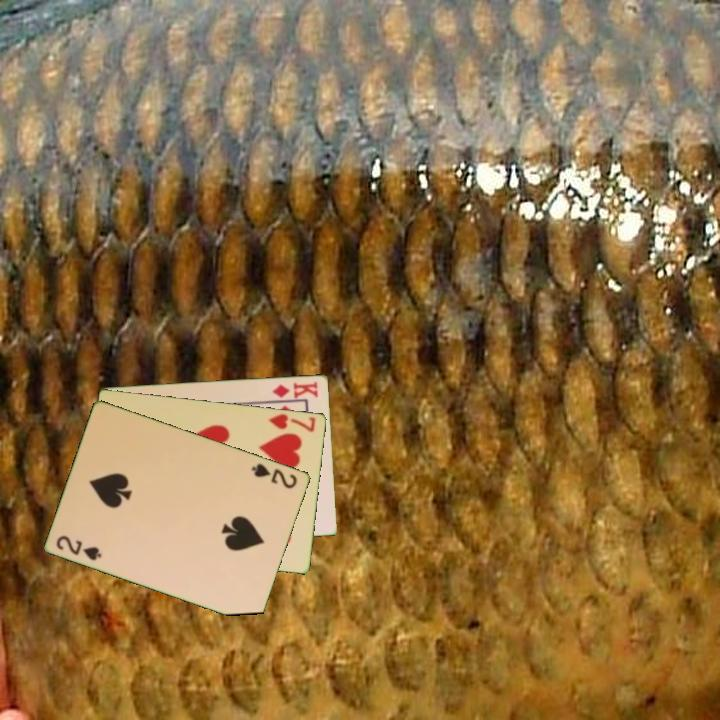2s: (248, 459, 300, 491), (53, 532, 105, 563)
7h: (265, 410, 319, 435)
Kd: (269, 378, 321, 401)
